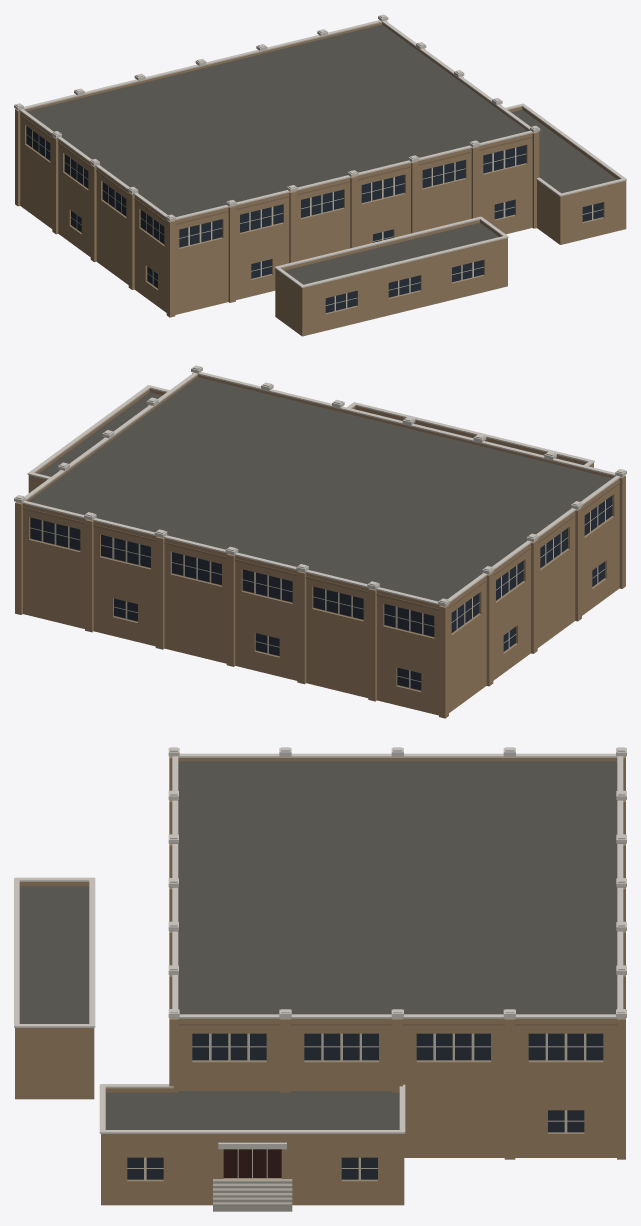
File: central-high-fieldhouse.glb
The picture shows the model from 3 angles, top to bottom: view 1: azimuth 30°, elevation 25°; view 2: azimuth 150°, elevation 25°; view 3: azimuth 270°, elevation 25°; orthographic projection. The views are drawn at different scales.
Visible parts, largest first — view 1: central_roof, central_brick, central_glass, central_stone, central_sash, central_brick2; view 2: central_roof, central_brick, central_glass, central_stone, central_sash, central_brick2; view 3: central_roof, central_brick, central_stone, central_glass, central_sash, central_paving, central_door, central_brick2.
Boxes of the visible parts, x1,y1,x2,y2 form: central_roof: (26, 24, 617, 284); central_brick: (15, 20, 626, 336); central_glass: (26, 126, 603, 312); central_stone: (14, 14, 626, 287); central_sash: (26, 130, 603, 313); central_brick2: (20, 114, 532, 225); central_roof: (28, 377, 611, 601); central_brick: (15, 372, 625, 718); central_glass: (30, 496, 612, 690); central_stone: (14, 365, 626, 606); central_sash: (30, 500, 612, 691); central_brick2: (22, 481, 619, 610); central_roof: (19, 761, 617, 1129); central_brick: (15, 756, 625, 1205); central_stone: (14, 747, 626, 1149); central_glass: (127, 1033, 603, 1179); central_sash: (127, 1033, 603, 1180); central_paving: (213, 1179, 292, 1211); central_door: (223, 1149, 281, 1177); central_brick2: (178, 1023, 616, 1025).
Size of the model in its own units: 58.27 by 12.3 by 46.45.
